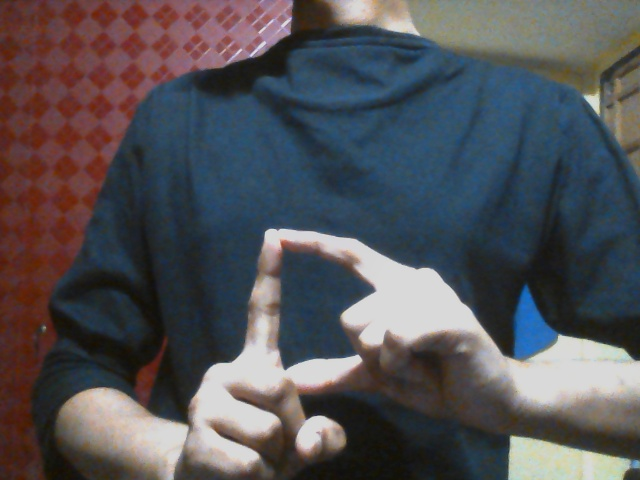D: (191, 227, 498, 480)
